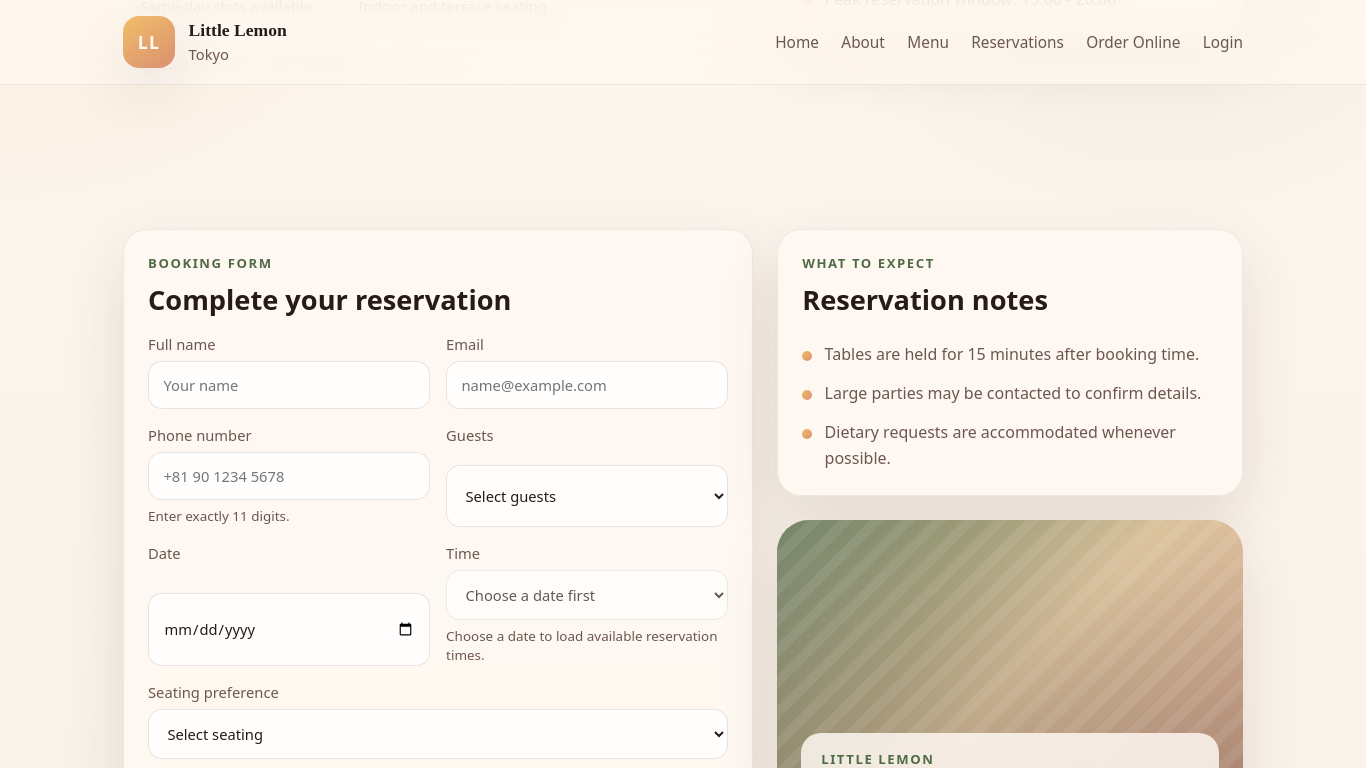
reservation button enables only after required fields are completed and shows invalid field errors
(page scrolled)
Type "Alex Chen" into the field labelled "Full name" at x=289, y=385, box [148,361,430,409]
Type "invalid-email" into the field labelled "Email" at x=587, y=385, box [446,361,728,409]
Type "09012345678" into the field labelled "Phone number Enter exactly 11 digits." at x=289, y=476, box [148,452,430,500]
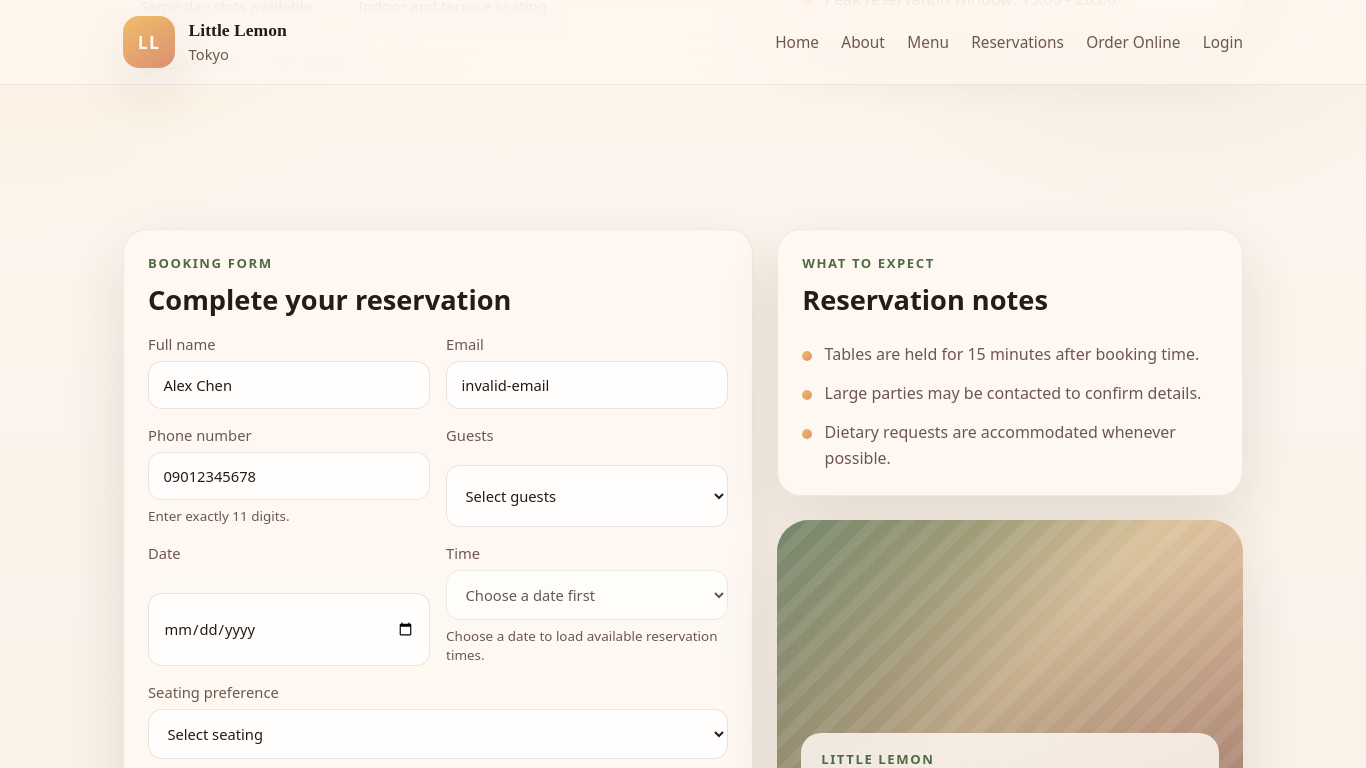
Select "2 guests" in the dropdown labelled "Guests" at x=587, y=496, box [446,465,728,527]
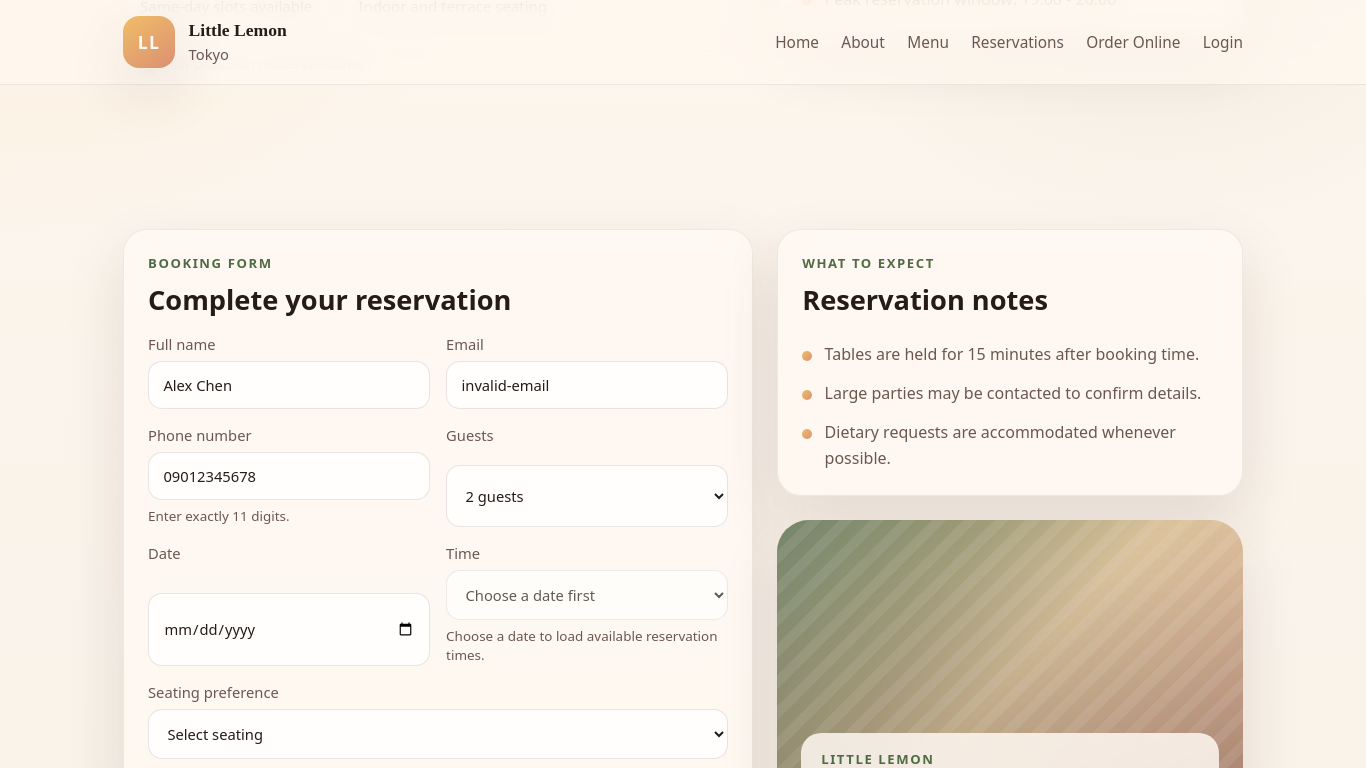
Type "2026-03-21" into the date field with id "date" at x=289, y=629, box [148,593,430,666]
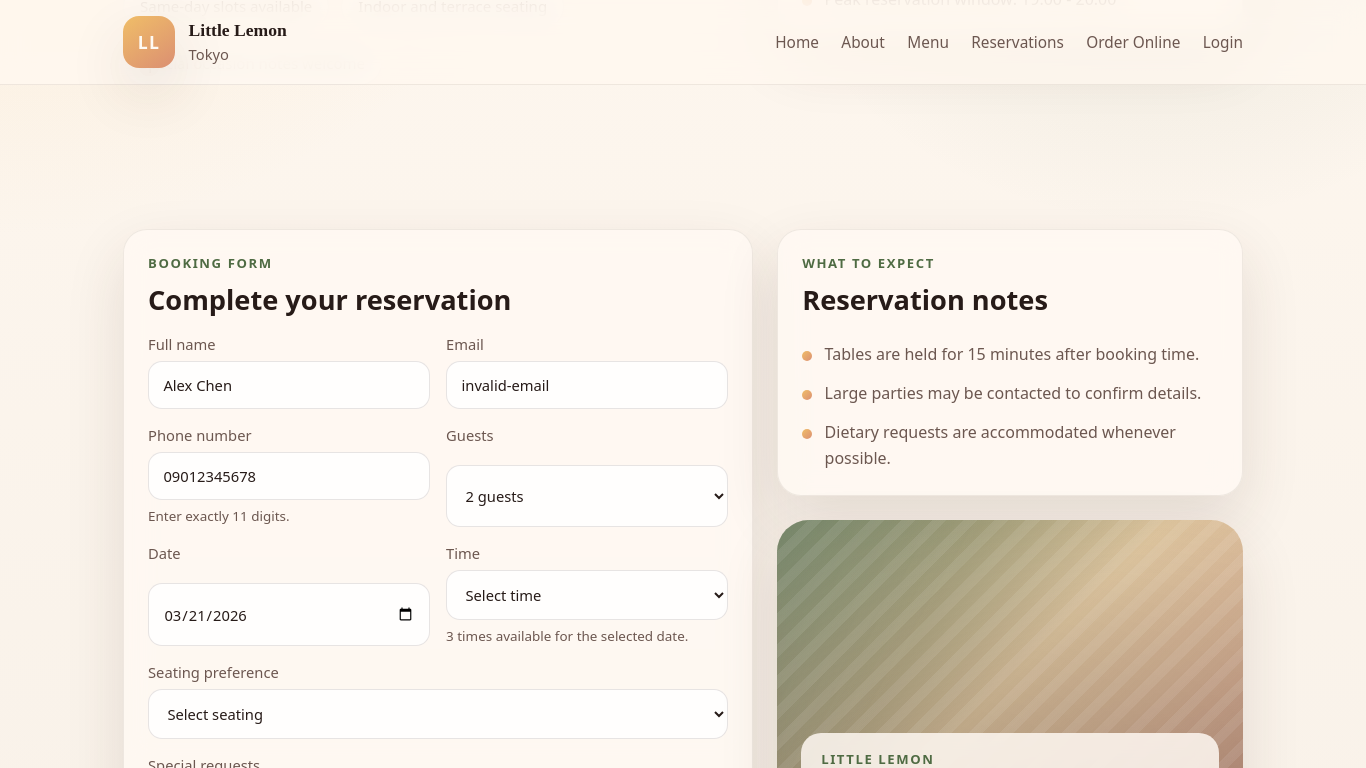
Select "19:00" in the dropdown with id "time" at x=587, y=595, box [446,570,728,620]
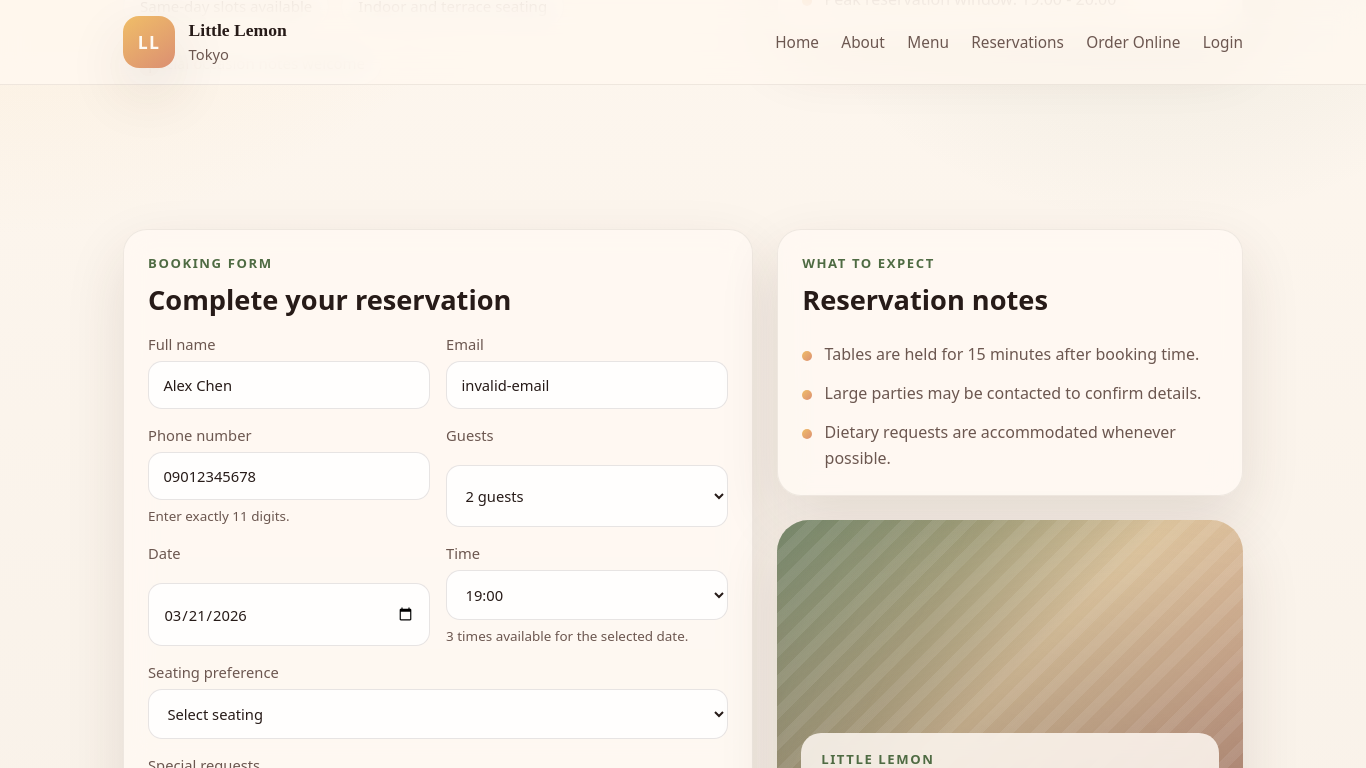
Select "Indoor dining room" in the dropdown labelled "Seating preference" at x=438, y=714, box [148,690,728,739]
(page scrolled)
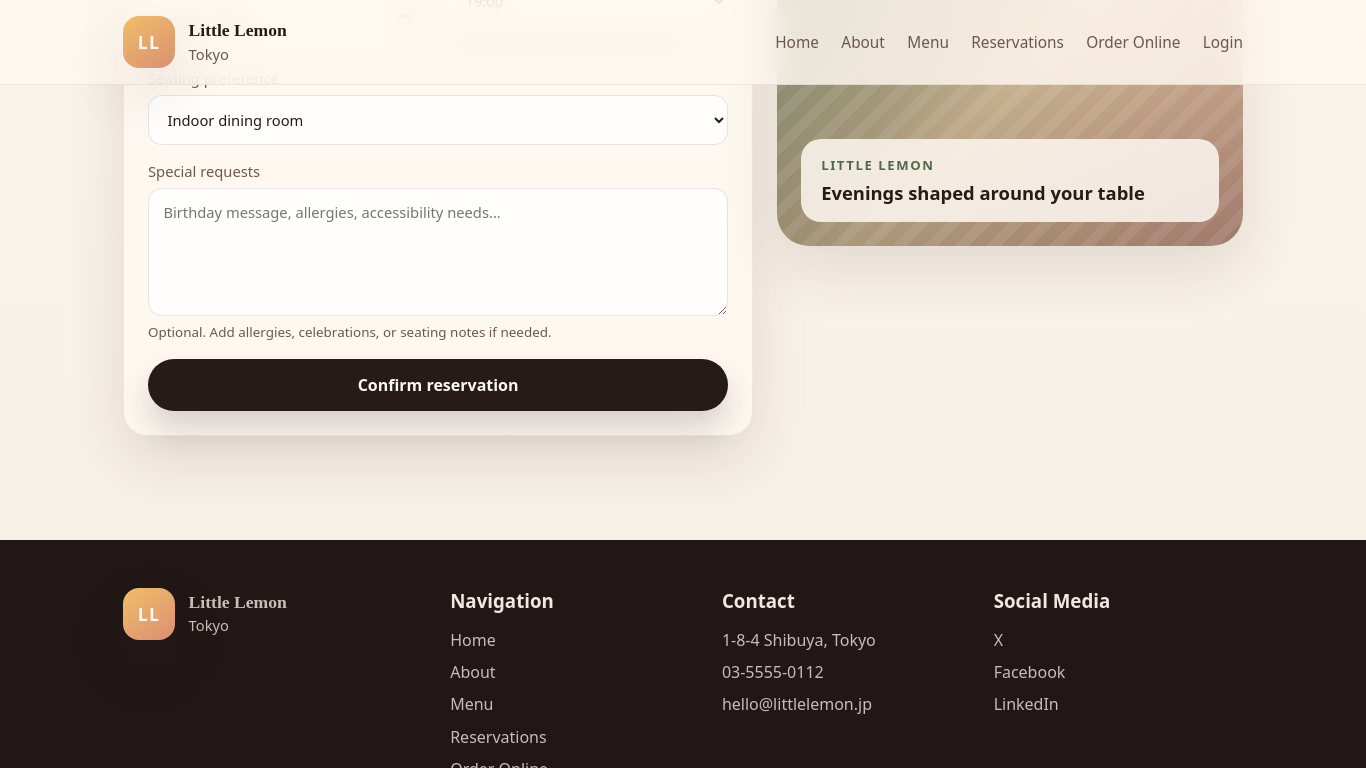
Now the button "Confirm reservation" is enabled
Click the button "Confirm reservation" at x=438, y=384, box [148,358,728,410]
(page scrolled)
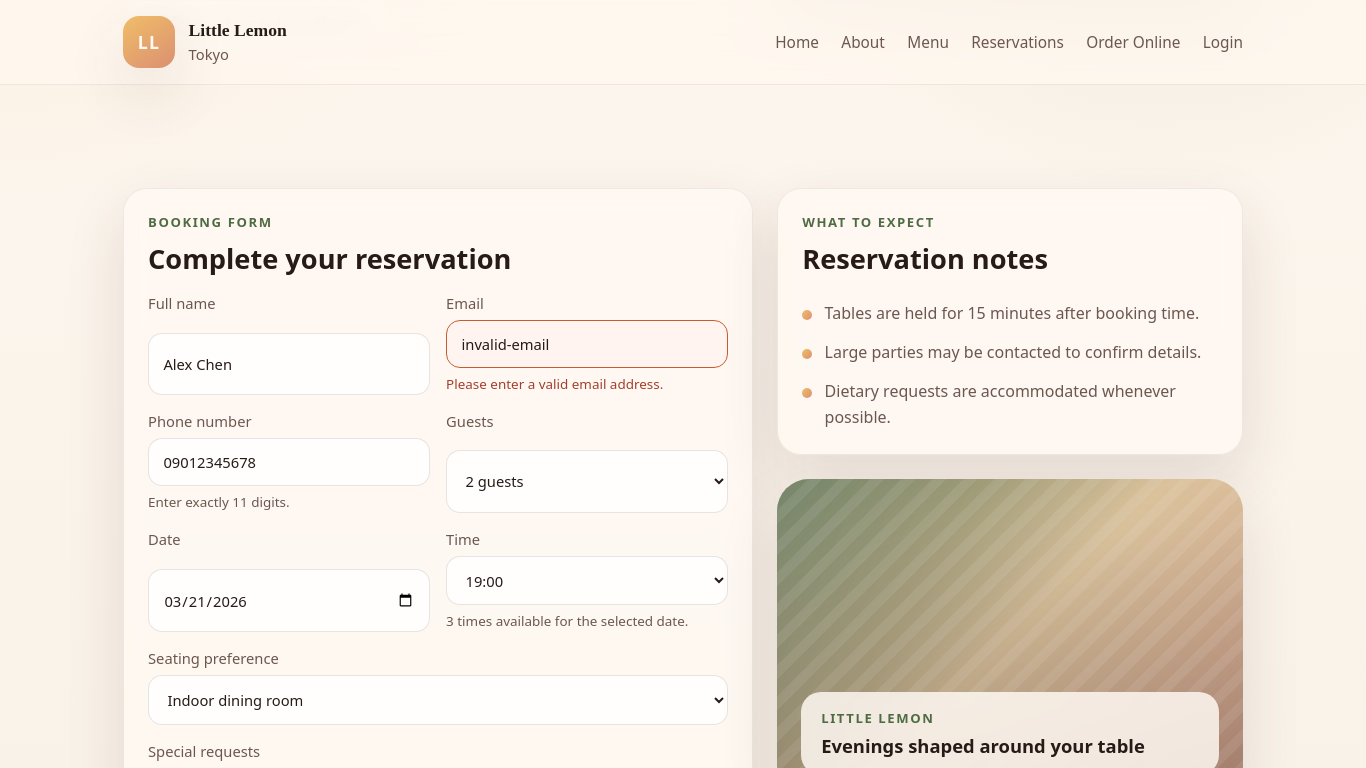
Now the text "Please enter a valid email address." is shown, box [446,375,663,393]
